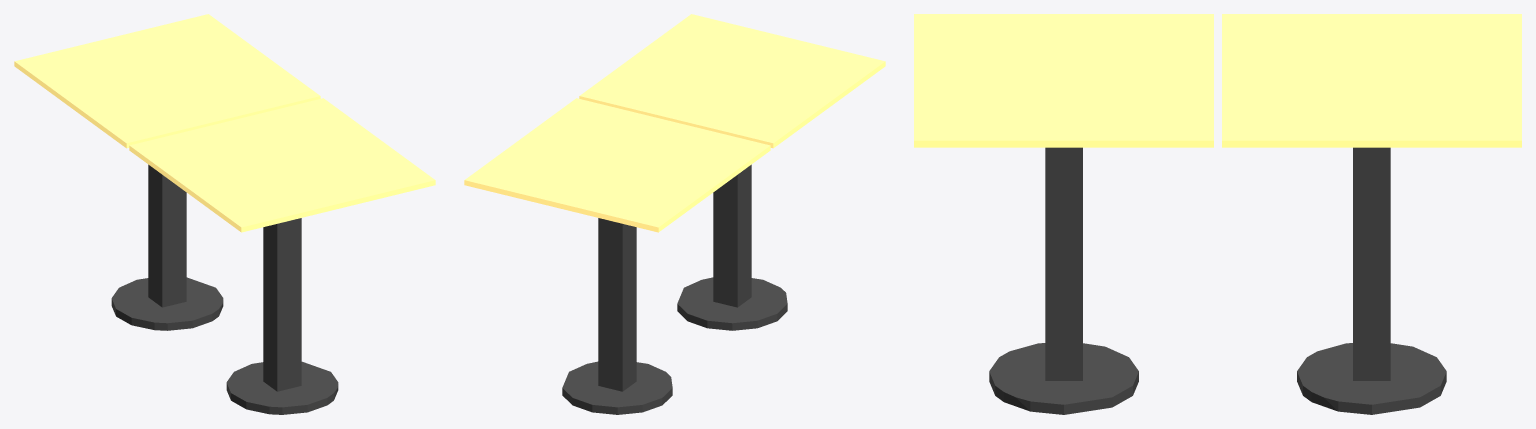
The picture shows the model from 3 angles, left to right: view 1: azimuth 30°, elevation 25°; view 2: azimuth 150°, elevation 25°; view 3: azimuth 270°, elevation 25°; orthographic projection. The views are drawn at different scales.
Visible parts, largest first — view 1: Table1, Table1_001; view 2: Table1_001, Table1; view 3: Table1, Table1_001.
Part boxes in pixels (left/top/right/bottom): Table1: left=129, top=98, right=435, bottom=414; Table1_001: left=14, top=14, right=320, bottom=330; Table1_001: left=464, top=98, right=770, bottom=414; Table1: left=579, top=14, right=885, bottom=330; Table1: left=914, top=14, right=1213, bottom=414; Table1_001: left=1222, top=14, right=1521, bottom=414.
Bounding box in the file's own units: 0.8 × 1.62 × 0.9.
